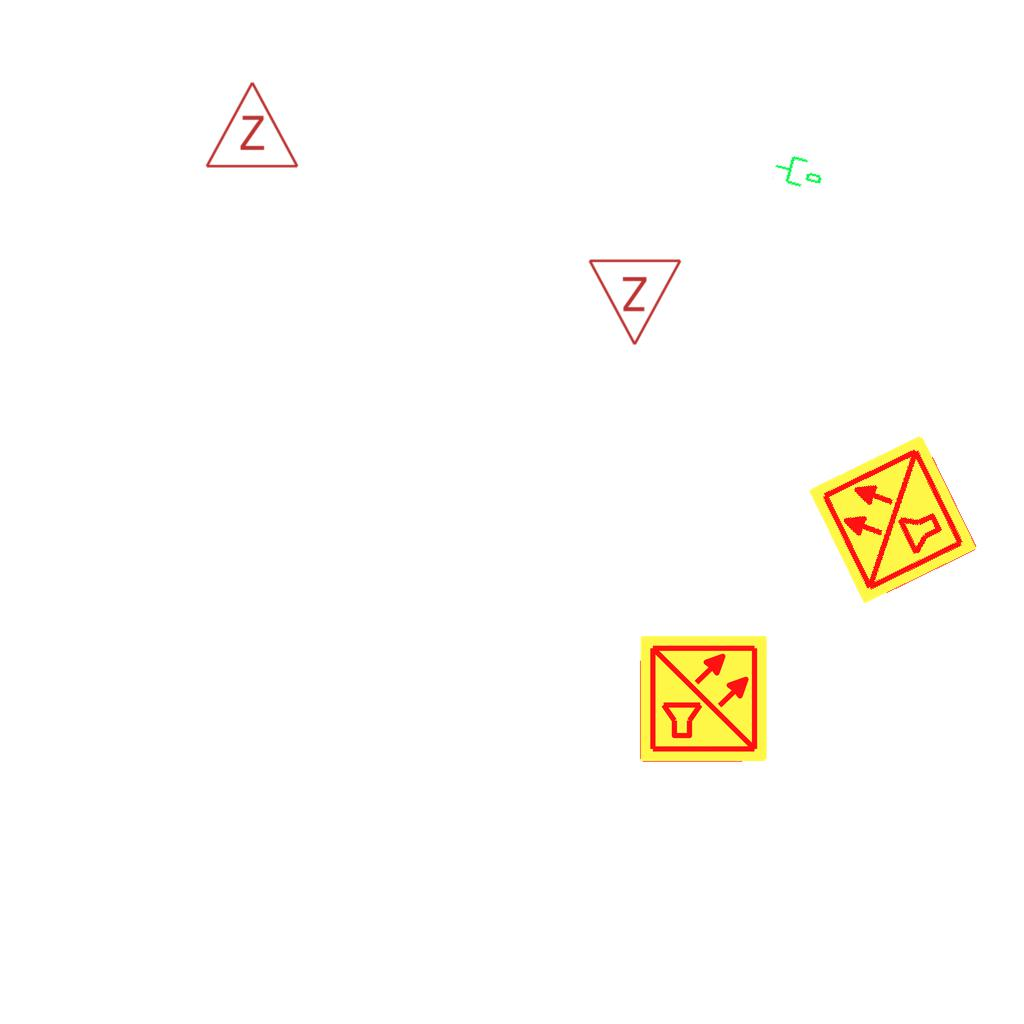Datenanschluss_einfach: (770, 148, 828, 194)
OKW_Multisensormelder_(Kombination_optischer_Rauch-Kahlenmonoxid_Waerme-Melder): (804, 430, 982, 608), (638, 633, 770, 765)
Zimmersignalleuchte: (202, 75, 300, 175), (587, 252, 685, 352)
